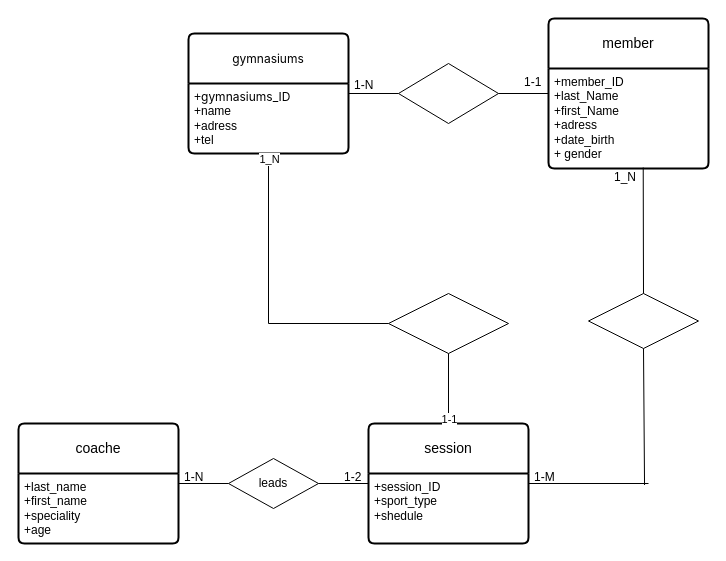
This 726x561 diagram has some shape labels left out. The centre of each missing label's shape, as x and y in pixels:
"attends" goes at (643,320).
"host at" goes at (448,323).
"register at" goes at (448,93).
